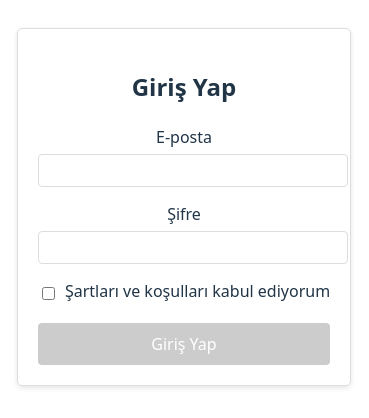
Scenario: Login Form Tests › shows error message for invalid email
In the field with test id "email-input": (193, 171) [38,154,348,187], type "invalid-email"
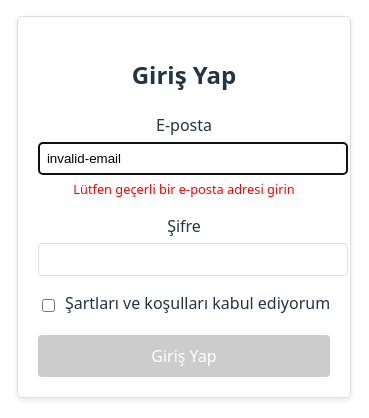
Expected: the button with test id "login-button" is disabled, [38,335,330,377]
Expected: the text "Lütfen geçerli bir e-posta adresi girin" is shown, [73,180,295,198]
